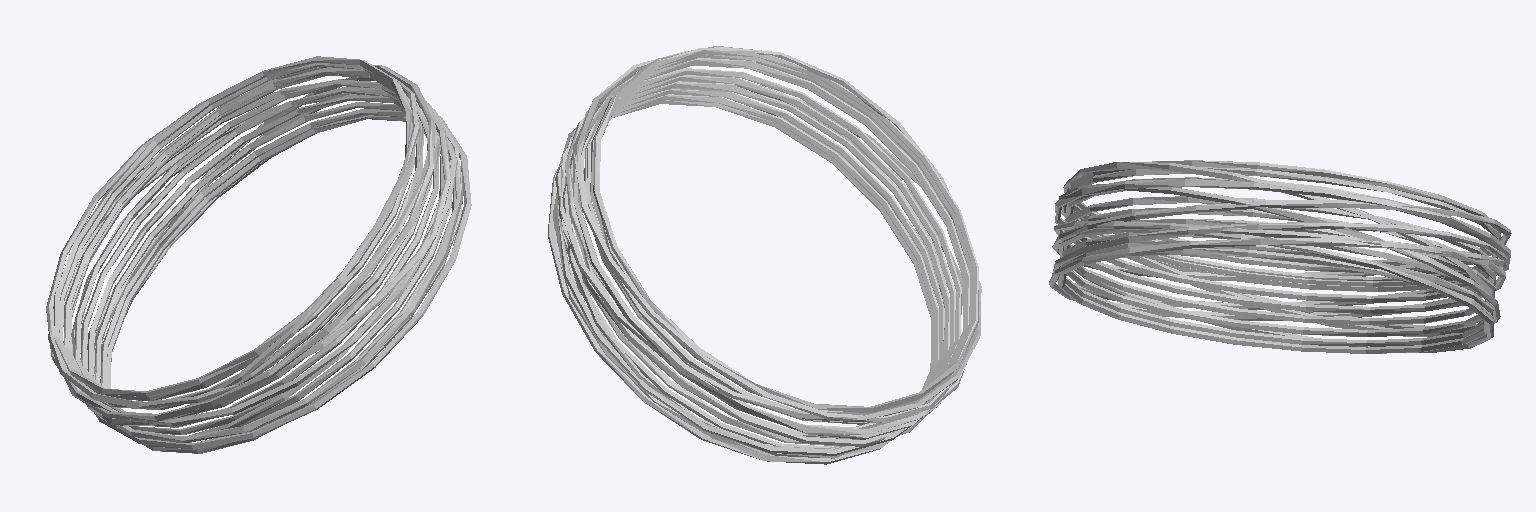
The model's file is powerup_shield.obj.
The picture shows the model from 3 angles: view 1: azimuth 30°, elevation 25°; view 2: azimuth 150°, elevation 25°; view 3: azimuth 270°, elevation 25°; orthographic projection.
Visible parts, largest first — view 1: Defense1_1:pTorus1, Defense1_1:pTorus5, Defense1_1:pTorus8, Defense1_1:pTorus12, Defense1_1:pTorus16, Defense1_1:pTorus18, Defense1_1:pTorus9, Defense1_1:pTorus11, Defense1_1:pTorus10, Defense1_1:pTorus6, Defense1_1:pTorus2, Defense1_1:pTorus14 (+6 smaller); view 2: Defense1_1:pTorus1, Defense1_1:pTorus10, Defense1_1:pTorus17, Defense1_1:pTorus12, Defense1_1:pTorus16, Defense1_1:pTorus18, Defense1_1:pTorus5, Defense1_1:pTorus6, Defense1_1:pTorus8, Defense1_1:pTorus7, Defense1_1:pTorus15, Defense1_1:pTorus14 (+6 smaller); view 3: Defense1_1:pTorus13, Defense1_1:pTorus16, Defense1_1:pTorus14, Defense1_1:pTorus18, Defense1_1:pTorus12, Defense1_1:pTorus11, Defense1_1:pTorus9, Defense1_1:pTorus8, Defense1_1:pTorus10, Defense1_1:pTorus5, Defense1_1:pTorus2, Defense1_1:pTorus3 (+6 smaller).
Boxes of the visible parts, x1,y1,x2,y2 form: Defense1_1:pTorus1: [54, 56, 411, 396]; Defense1_1:pTorus5: [46, 67, 450, 425]; Defense1_1:pTorus8: [81, 87, 439, 427]; Defense1_1:pTorus12: [95, 102, 451, 442]; Defense1_1:pTorus16: [63, 65, 434, 420]; Defense1_1:pTorus18: [74, 79, 431, 417]; Defense1_1:pTorus9: [67, 79, 461, 442]; Defense1_1:pTorus11: [72, 100, 471, 449]; Defense1_1:pTorus10: [88, 94, 443, 434]; Defense1_1:pTorus6: [48, 93, 457, 408]; Defense1_1:pTorus2: [59, 63, 414, 400]; Defense1_1:pTorus14: [101, 109, 455, 448]; Defense1_1:pTorus1: [593, 48, 978, 412]; Defense1_1:pTorus10: [572, 81, 949, 446]; Defense1_1:pTorus17: [587, 58, 969, 422]; Defense1_1:pTorus12: [562, 89, 944, 448]; Defense1_1:pTorus16: [573, 51, 966, 434]; Defense1_1:pTorus18: [576, 68, 961, 428]; Defense1_1:pTorus5: [574, 75, 962, 422]; Defense1_1:pTorus6: [559, 81, 981, 421]; Defense1_1:pTorus8: [572, 75, 955, 438]; Defense1_1:pTorus7: [553, 59, 963, 455]; Defense1_1:pTorus15: [548, 88, 946, 464]; Defense1_1:pTorus14: [557, 94, 938, 458]; Defense1_1:pTorus13: [1058, 248, 1492, 353]; Defense1_1:pTorus16: [1055, 179, 1510, 291]; Defense1_1:pTorus14: [1060, 241, 1493, 346]; Defense1_1:pTorus18: [1063, 196, 1495, 302]; Defense1_1:pTorus12: [1061, 232, 1488, 336]; Defense1_1:pTorus11: [1049, 238, 1505, 320]; Defense1_1:pTorus9: [1052, 222, 1506, 309]; Defense1_1:pTorus8: [1064, 208, 1496, 313]; Defense1_1:pTorus10: [1064, 219, 1495, 324]; Defense1_1:pTorus5: [1052, 200, 1511, 280]; Defense1_1:pTorus2: [1069, 167, 1500, 272]; Defense1_1:pTorus3: [1063, 162, 1494, 336].
Bounding box in the file's own units: 1.88 × 1.57 × 2.13.